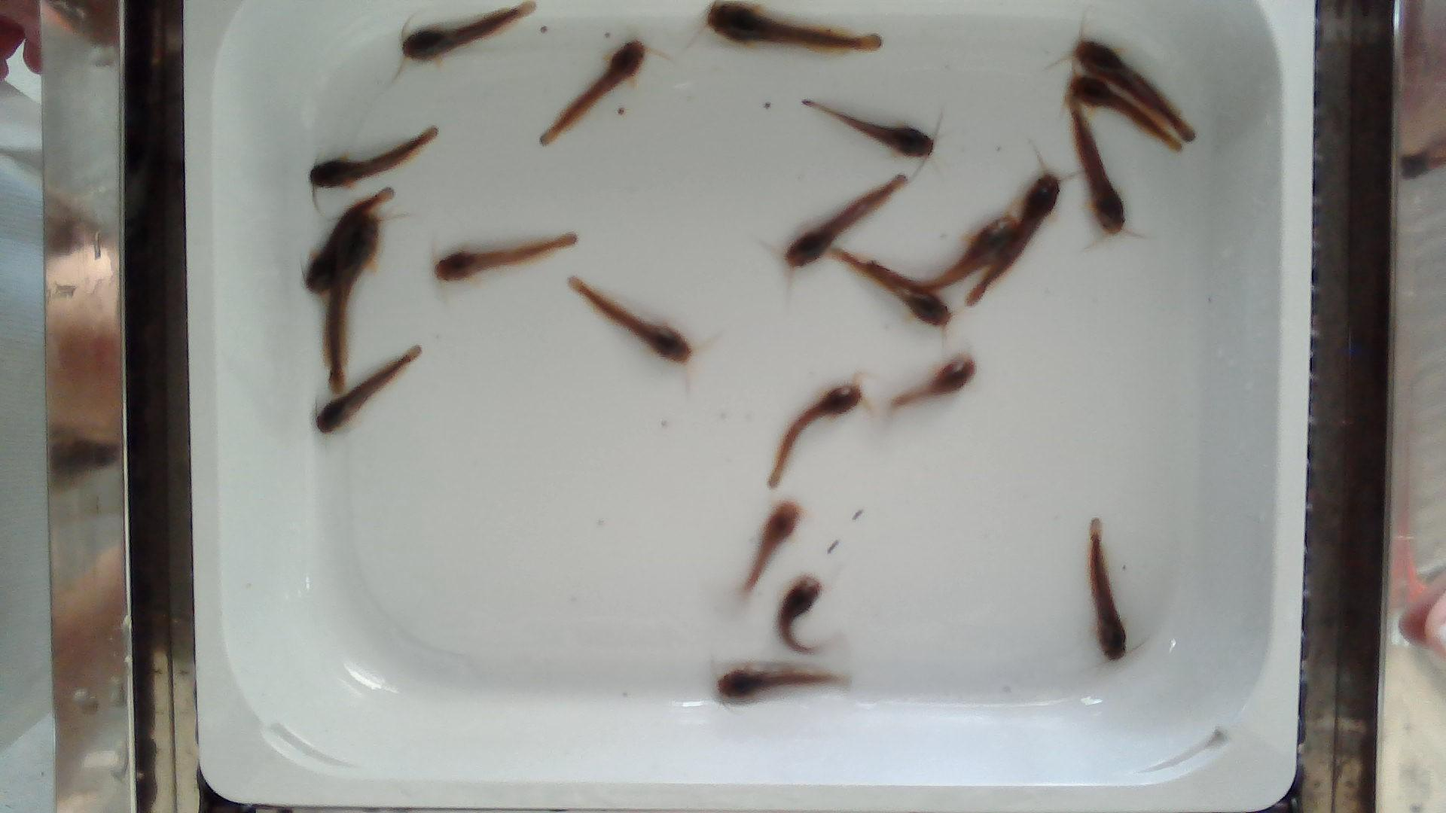lele: (1078, 41, 1199, 141), (969, 172, 1060, 303), (875, 212, 1016, 292), (540, 39, 646, 145), (785, 175, 907, 267), (569, 276, 691, 362), (829, 246, 948, 327), (768, 384, 861, 487), (315, 346, 420, 434), (327, 214, 378, 392), (309, 188, 395, 293), (706, 2, 881, 51), (1074, 76, 1184, 153), (401, 0, 535, 59), (310, 127, 438, 187), (804, 100, 933, 157), (435, 233, 577, 281), (1072, 108, 1125, 233), (742, 501, 801, 593), (1089, 519, 1126, 659), (889, 354, 975, 410), (718, 666, 839, 700), (777, 576, 821, 652)
